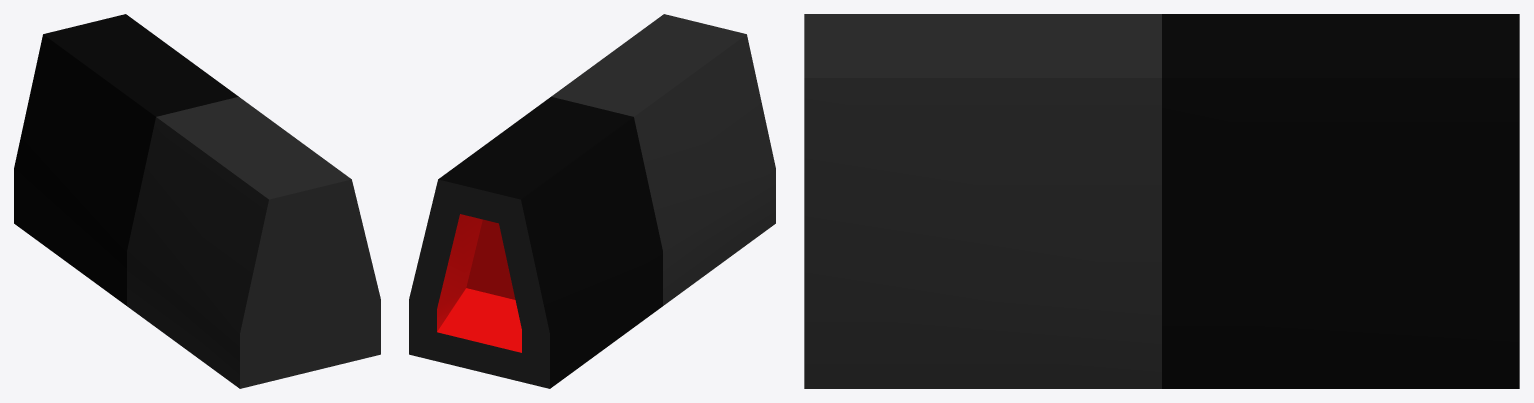
The model's file is barrel.obj.
3 views of the same model, side by side, from view 1: azimuth 30°, elevation 25°; view 2: azimuth 150°, elevation 25°; view 3: azimuth 270°, elevation 25° (orthographic). The views are drawn at different scales.
Visible parts, largest first — view 1: engine_barrelTop_87; view 2: engine_barrelTop_87; view 3: engine_barrelTop_87.
Boxes of the visible parts, x1,y1,x2,y2 form: engine_barrelTop_87: (14,14,380,388); engine_barrelTop_87: (409,14,775,388); engine_barrelTop_87: (804,14,1519,388).
Size of the model in its own units: 0.36 by 0.445 by 1.
